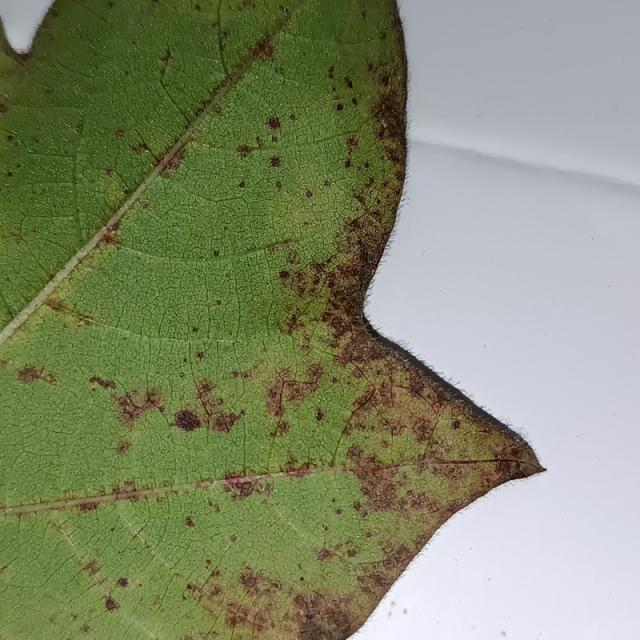Bacterial_Blight: (280, 257, 341, 317), (219, 590, 283, 634), (108, 385, 167, 430), (341, 381, 392, 432), (367, 404, 413, 441), (328, 328, 368, 367), (219, 473, 269, 501), (306, 606, 352, 636), (378, 541, 414, 571), (279, 377, 317, 404), (260, 110, 296, 138), (14, 363, 57, 385), (157, 145, 187, 173), (210, 409, 244, 433), (264, 385, 289, 417), (172, 408, 201, 432), (110, 479, 140, 498), (96, 595, 119, 619), (412, 419, 436, 442), (252, 36, 274, 59), (304, 362, 326, 383), (408, 492, 431, 511), (89, 375, 116, 391), (238, 570, 259, 590), (345, 444, 366, 464), (281, 313, 301, 334), (101, 227, 121, 247), (495, 457, 516, 476), (270, 420, 290, 437), (292, 271, 310, 289), (316, 546, 336, 562), (113, 439, 132, 455), (236, 143, 254, 158), (197, 378, 215, 393), (76, 501, 98, 513), (83, 560, 100, 575), (158, 47, 172, 65), (105, 221, 120, 237), (9, 229, 23, 246), (384, 146, 399, 161), (229, 369, 249, 379), (347, 218, 362, 231), (507, 446, 523, 458), (132, 142, 146, 155), (268, 155, 281, 168), (347, 134, 359, 148), (116, 577, 129, 588), (315, 408, 325, 422), (79, 623, 91, 634), (344, 76, 354, 89), (352, 501, 363, 512), (185, 516, 195, 527), (278, 270, 290, 279), (346, 548, 358, 557), (452, 419, 461, 430), (304, 612, 314, 621), (115, 129, 125, 138), (344, 159, 352, 168), (229, 534, 237, 543), (196, 351, 205, 359), (305, 190, 313, 198), (323, 179, 331, 187), (105, 168, 113, 176), (7, 134, 15, 142), (351, 97, 358, 106), (336, 104, 344, 111), (335, 508, 343, 515), (275, 181, 282, 189), (271, 135, 278, 143), (238, 181, 245, 188), (360, 511, 367, 518), (216, 398, 223, 405), (5, 171, 13, 177), (191, 326, 198, 332), (213, 250, 219, 257), (289, 114, 296, 120), (500, 629, 506, 636), (299, 576, 305, 582), (179, 372, 185, 378), (402, 608, 407, 615), (223, 225, 228, 231), (34, 138, 39, 143)
Cotton: (0, 0, 541, 639)
